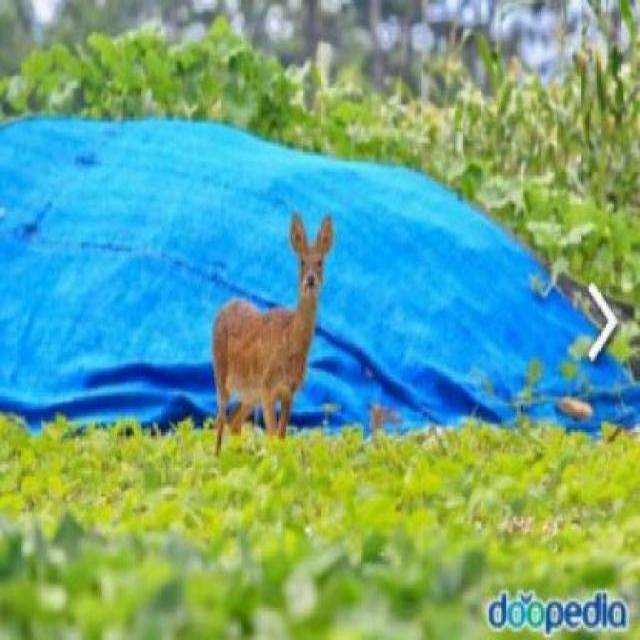deer: (209, 208, 336, 461)
